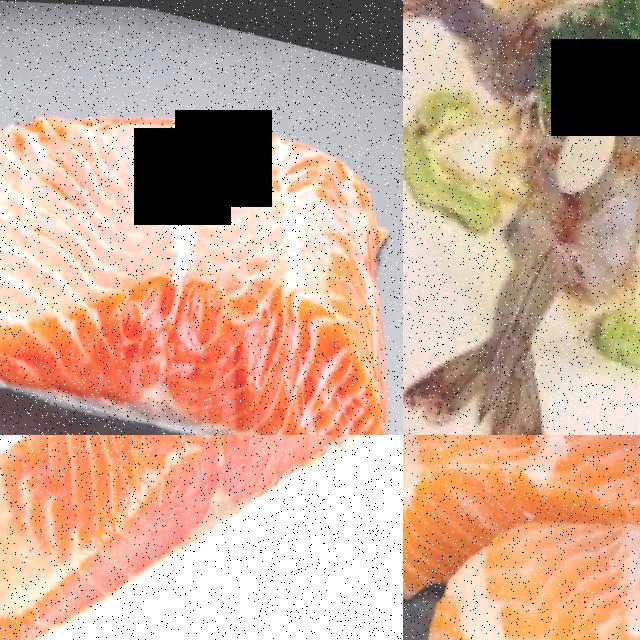salmon: (0, 24, 403, 435), (0, 435, 391, 640), (411, 459, 640, 640), (403, 435, 640, 586)
